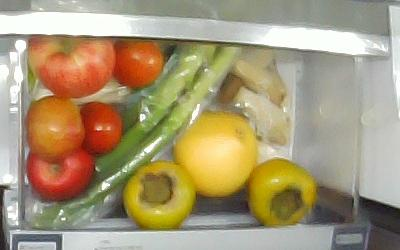apple: (27, 39, 116, 97), (26, 147, 93, 201)
grapefruit: (171, 109, 258, 194), (244, 157, 317, 225)
persimmon: (123, 162, 194, 228)
prune: (27, 96, 84, 160), (113, 39, 162, 89), (79, 101, 123, 155)
